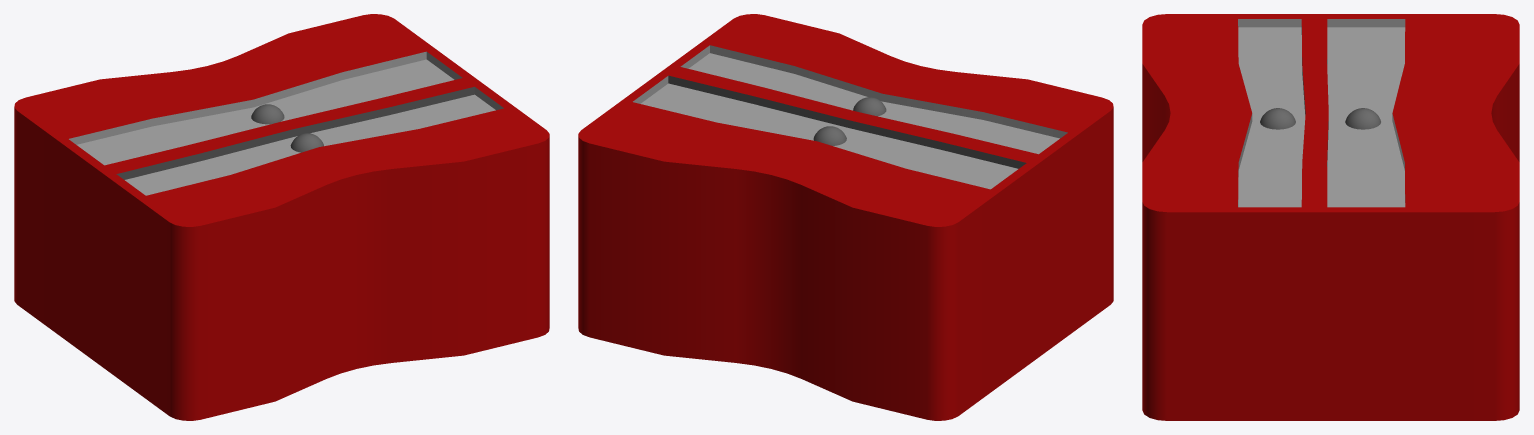
File: TailleCrayon_Geo.fbx
3 views of the same model, side by side, from view 1: azimuth 30°, elevation 25°; view 2: azimuth 150°, elevation 25°; view 3: azimuth 270°, elevation 25° (orthographic). The views are drawn at different scales.
Parts seen in each view (by area): view 1: BaseTaille_Crayon, PetiteBalle2; view 2: BaseTaille_Crayon, PetiteBalle2; view 3: BaseTaille_Crayon, PetiteBalle2, PetiteBalle1.
Boxes of the visible parts, left/top/right/bottom form: BaseTaille_Crayon: left=14, top=14, right=549, bottom=420; PetiteBalle2: left=251, top=104, right=284, bottom=124; BaseTaille_Crayon: left=578, top=14, right=1113, bottom=420; PetiteBalle2: left=813, top=126, right=846, bottom=145; BaseTaille_Crayon: left=1142, top=14, right=1519, bottom=420; PetiteBalle2: left=1345, top=108, right=1380, bottom=129; PetiteBalle1: left=1260, top=108, right=1295, bottom=129.
Size of the model in its own units: 2.04 by 1.02 by 1.64.
